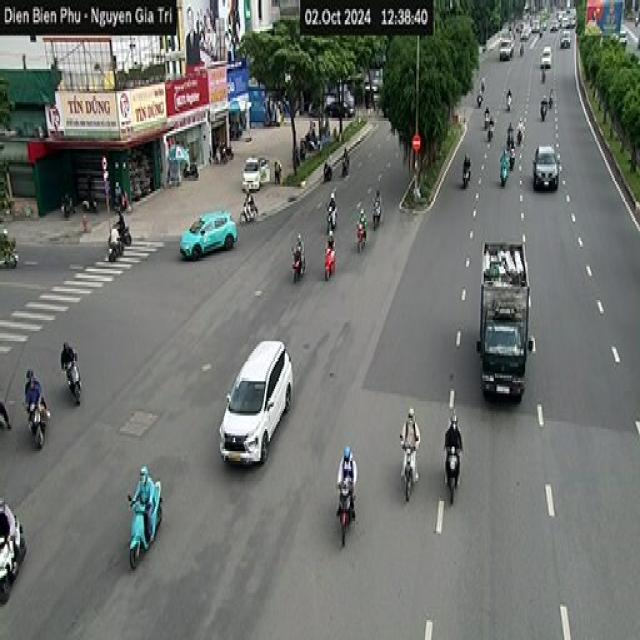car: (218, 338, 292, 467), (178, 209, 238, 260), (531, 145, 559, 191), (239, 154, 272, 190), (496, 24, 520, 59), (540, 44, 551, 66)
motorcycle: (126, 482, 162, 569), (24, 398, 50, 449), (336, 478, 355, 546), (400, 436, 419, 500), (61, 351, 81, 405), (444, 444, 460, 504), (116, 219, 135, 257), (106, 224, 124, 260), (501, 158, 518, 191), (290, 245, 305, 282), (322, 208, 343, 232), (324, 242, 336, 280), (371, 198, 381, 229), (356, 220, 366, 251), (461, 164, 470, 187)
person: (128, 464, 158, 542), (337, 444, 358, 518), (399, 407, 420, 480), (443, 414, 462, 484), (22, 364, 45, 409), (56, 339, 80, 374), (504, 145, 518, 182), (293, 221, 304, 264), (372, 190, 390, 214), (322, 251, 339, 276), (113, 208, 130, 231), (245, 190, 258, 220), (465, 147, 476, 180), (328, 188, 338, 222), (110, 221, 124, 245), (358, 201, 368, 224)
truck: (474, 236, 536, 402)
